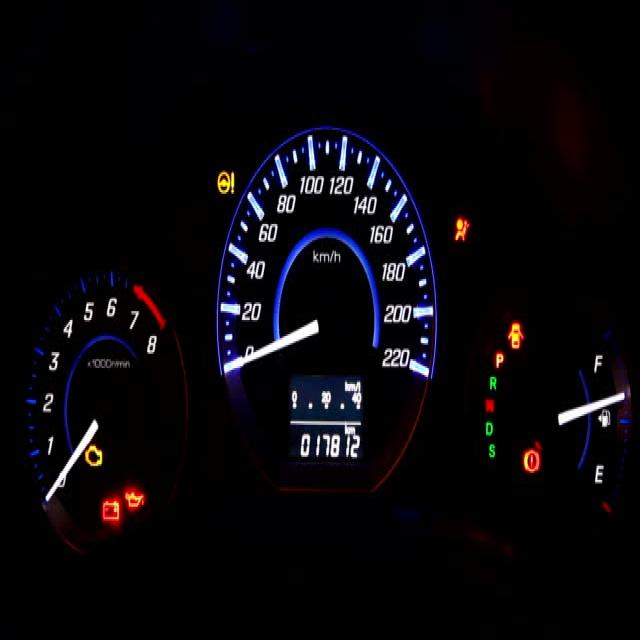Braking System Issue: (522, 446, 542, 475)
Charging System Issue: (100, 498, 121, 524)
Check Engine: (83, 441, 104, 469)
Low Engine Oil Warning Light: (123, 487, 145, 510)
SRS-Airbag: (454, 213, 471, 246)
